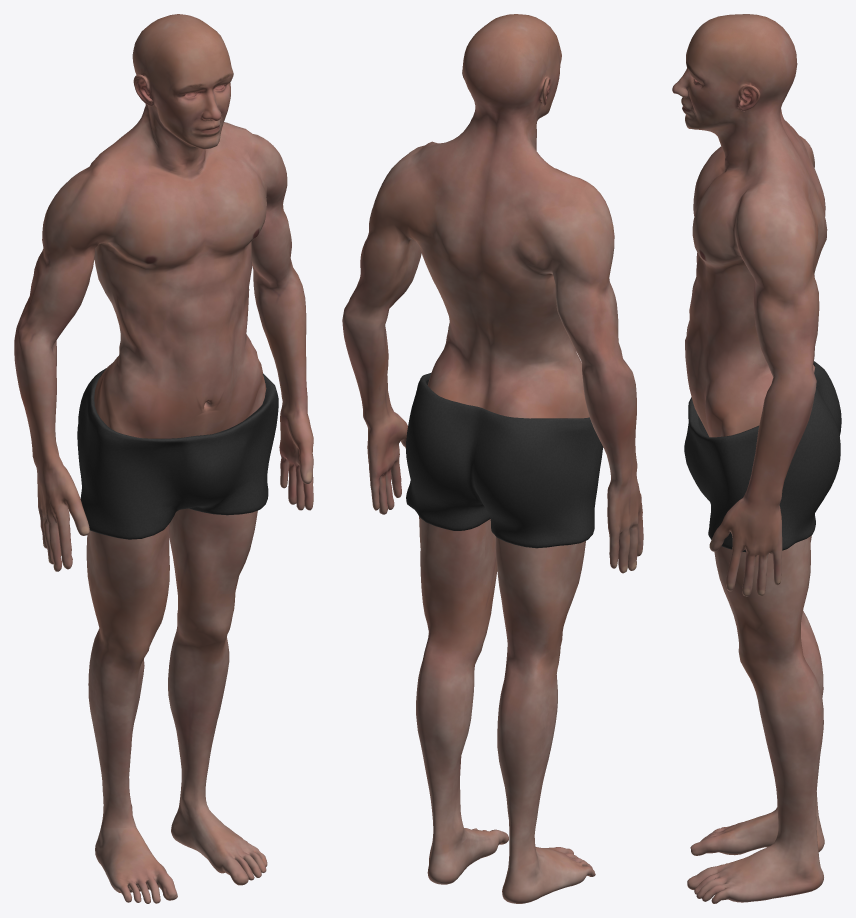
Rendered from Perfect_Body.fbx.
3 views of the same model, side by side, from view 1: azimuth 30°, elevation 25°; view 2: azimuth 150°, elevation 25°; view 3: azimuth 270°, elevation 25° (orthographic).
Visible parts, largest first — view 1: Human_Skin, Shot; view 2: Human_Skin, Shot; view 3: Human_Skin, Shot.
Boxes of the visible parts, x1,y1,x2,y2 form: Human_Skin: (14,14,313,903); Shot: (77,368,278,539); Human_Skin: (342,14,643,903); Shot: (406,372,603,548); Human_Skin: (672,14,827,903); Shot: (684,361,841,552).
Size of the model in its own units: 0.7076 by 2.06 by 0.3693.
Materials: 2 (2 with a texture image).
